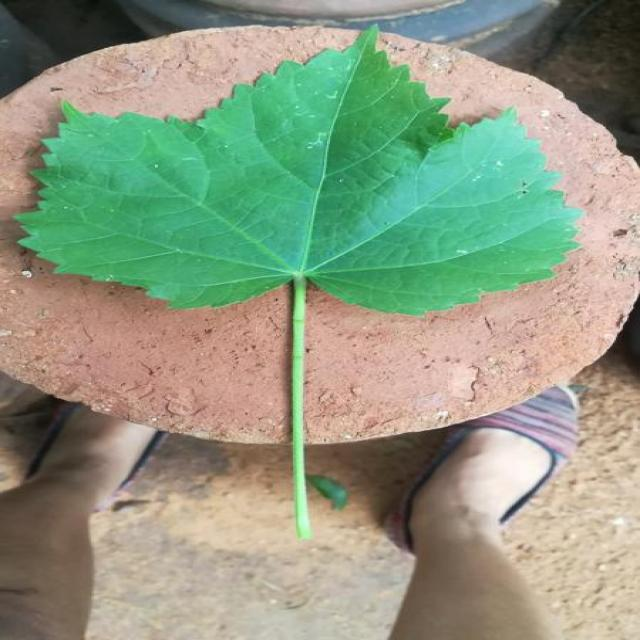kasamburga: (25, 30, 580, 443)
